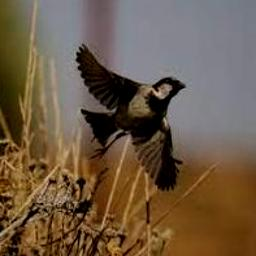Sparrow: (75, 43, 186, 191)
